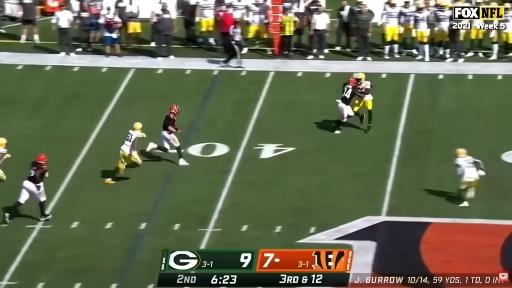Helmet: (170, 104, 180, 114), (36, 154, 47, 163), (356, 73, 365, 83), (456, 149, 467, 157), (134, 122, 142, 131), (348, 78, 357, 86), (0, 138, 7, 147)
Jersey: (455, 156, 483, 180), (121, 130, 144, 154), (27, 162, 47, 184), (340, 83, 356, 106), (383, 6, 400, 27), (250, 4, 267, 24), (435, 9, 451, 30), (231, 0, 248, 19), (198, 0, 215, 18), (415, 10, 430, 30), (401, 6, 415, 27), (359, 81, 372, 99), (163, 115, 175, 133), (504, 11, 511, 32), (0, 148, 7, 163), (472, 19, 483, 28)
Player: (4, 154, 51, 223), (146, 105, 188, 165), (455, 149, 485, 206), (116, 123, 146, 174), (335, 78, 357, 133), (353, 73, 373, 132), (383, 0, 401, 58), (246, 0, 269, 43), (401, 0, 418, 55), (435, 0, 451, 58), (415, 2, 430, 61), (197, 0, 215, 45), (466, 20, 485, 56), (502, 3, 511, 56), (231, 0, 248, 20), (489, 30, 498, 59), (0, 138, 10, 163)
